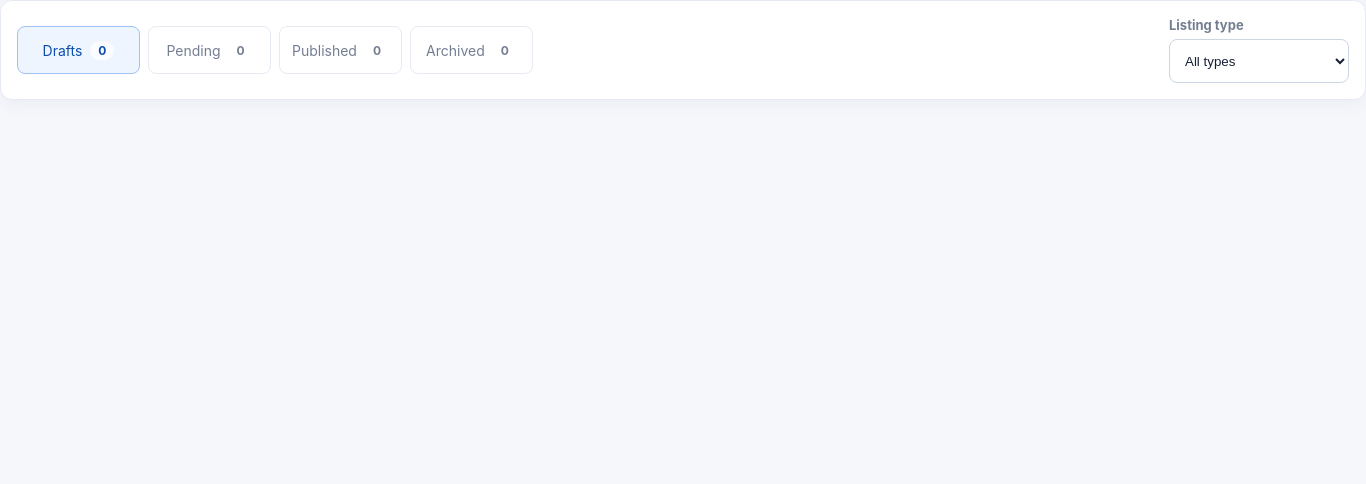
Test case: account Listing management › switches buckets and archives a selected current-version Listing
Click the button "Published 0" at (340, 50), box [279,26,402,74]
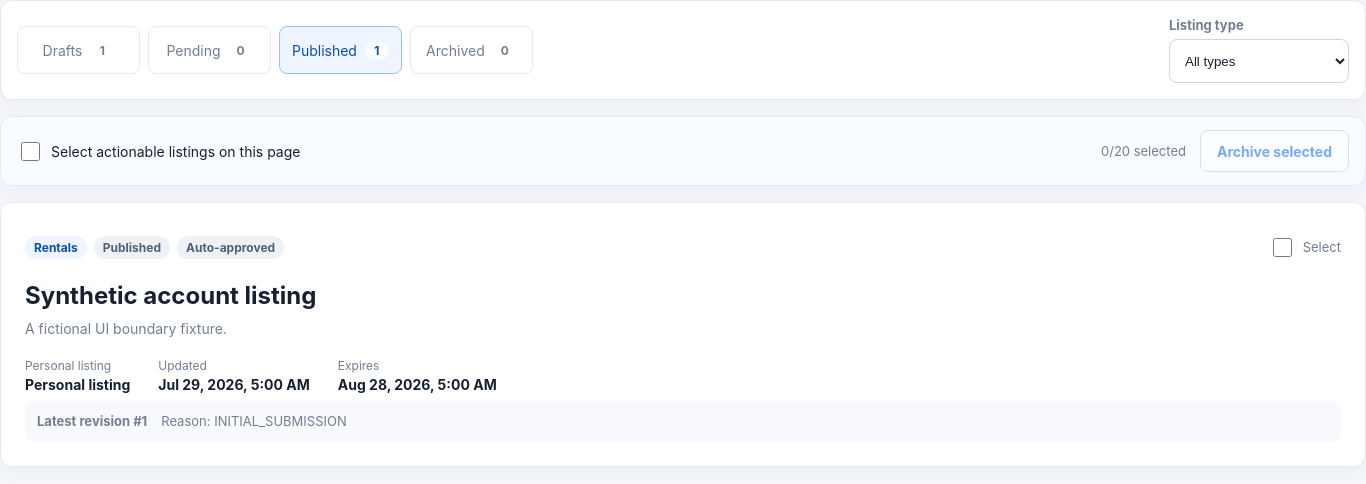
Expected: the heading "Synthetic account listing" is shown, [25,281,316,310]
Click the checkbox labelled "Select" at (1282, 247), box [1273,238,1292,256]
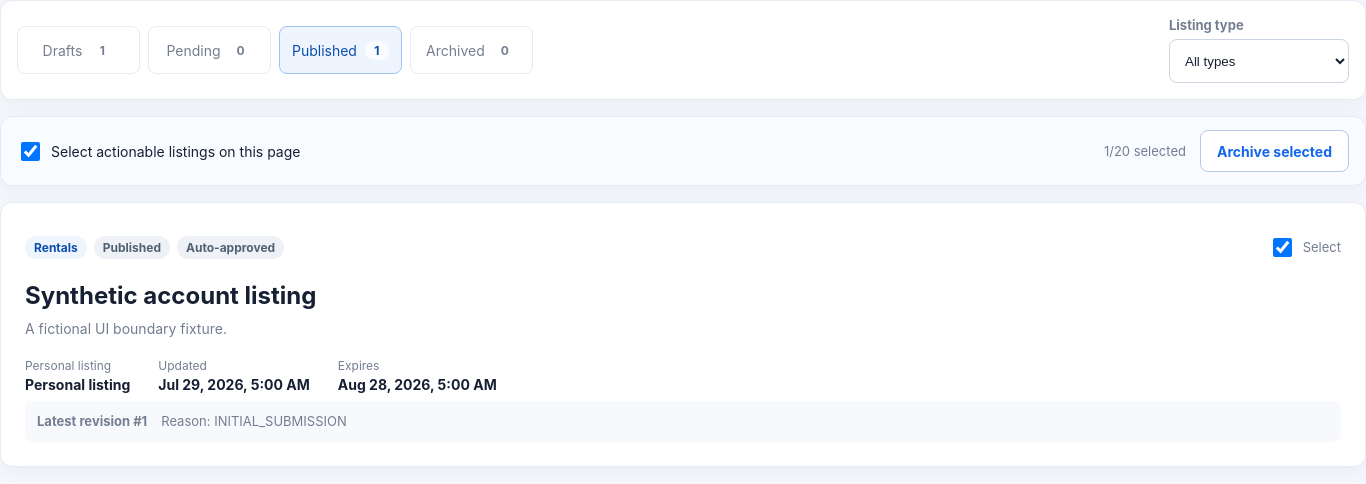
Click the button "Archive selected" at (1274, 151), box [1200,130,1349,172]
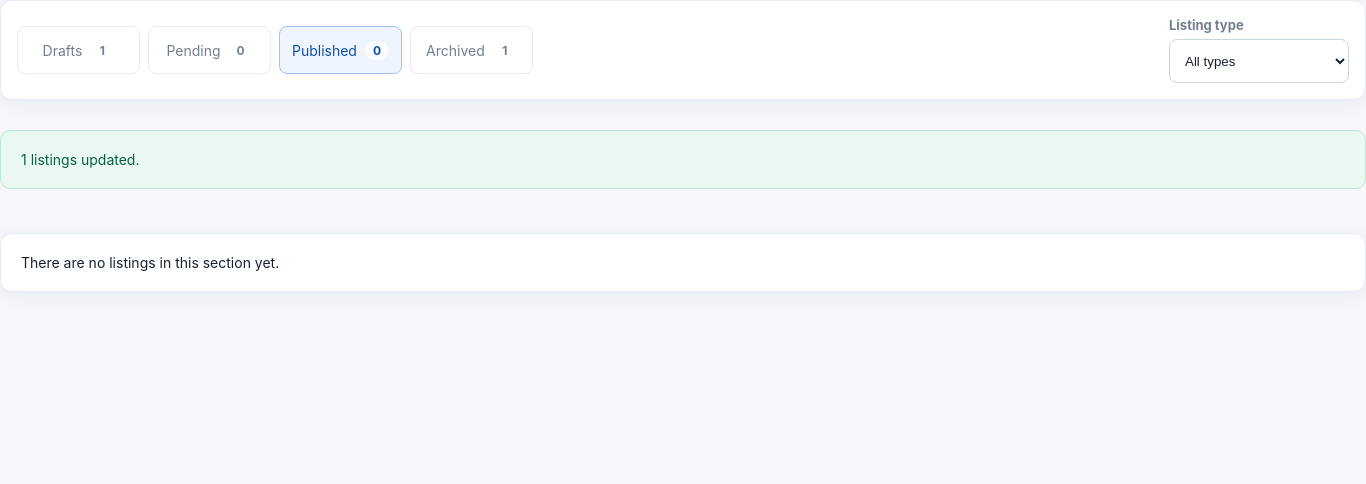
Expected: the text "1 listings updated." is shown, [0,130,1365,189]
